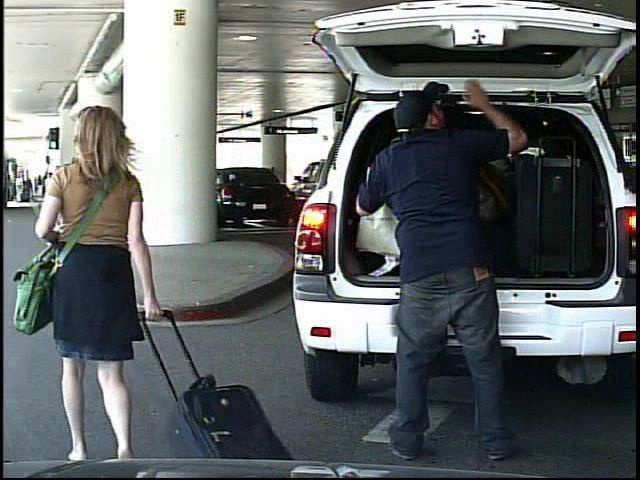person: (367, 34, 546, 477), (62, 94, 208, 449), (15, 173, 26, 204)
